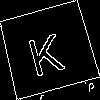K: (23, 24, 66, 77)
